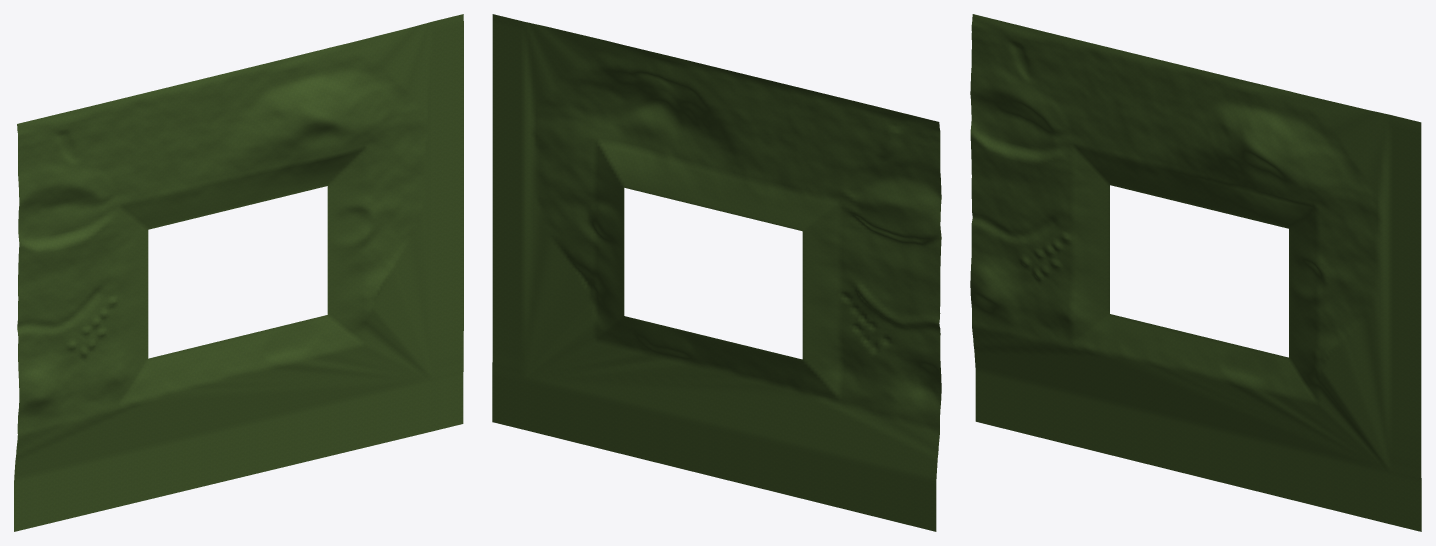
The model's file is surrounding_landscape.obj.
3 views of the same model, side by side, from view 1: azimuth 30°, elevation 25°; view 2: azimuth 150°, elevation 25°; view 3: azimuth 330°, elevation 25° (orthographic).
Parts seen in each view (by area): view 1: SurveyLandscape; view 2: SurveyLandscape; view 3: SurveyLandscape.
Boxes of the visible parts, bbox=[...] form: SurveyLandscape: bbox=[14, 14, 463, 531]; SurveyLandscape: bbox=[492, 14, 941, 531]; SurveyLandscape: bbox=[970, 14, 1421, 531].
Bounding box in the file's own units: 160 × 140 × 7.66.
1 material, 1 textured.
